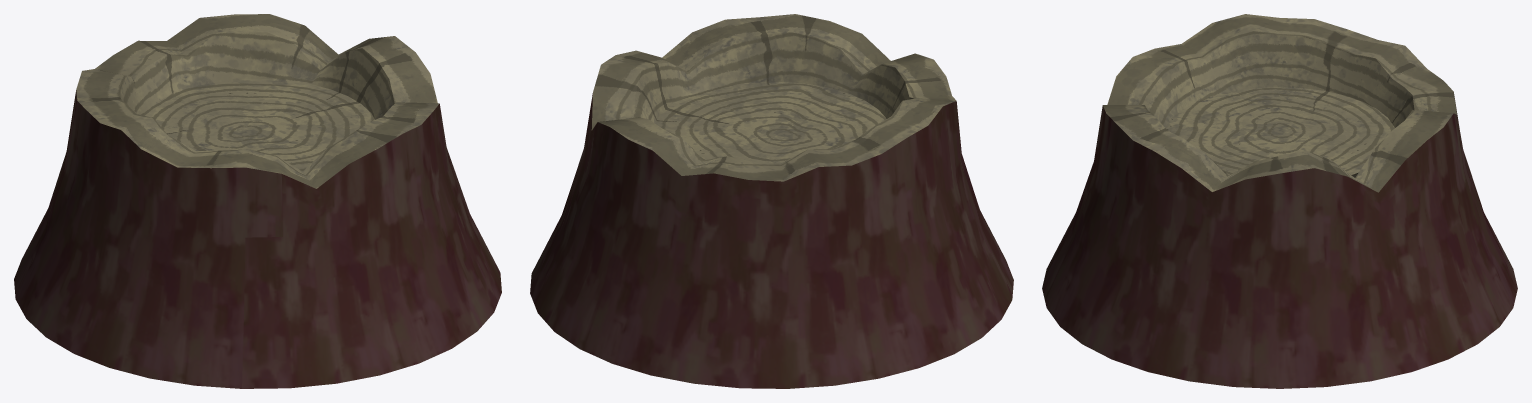
Rendered from PRM Tree Stump.fbx.
The picture shows the model from 3 angles, left to right: view 1: azimuth 30°, elevation 25°; view 2: azimuth 150°, elevation 25°; view 3: azimuth 270°, elevation 25°; orthographic projection. The views are drawn at different scales.
Parts seen in each view (by area): view 1: Stump_LOD0; view 2: Stump_LOD0; view 3: Stump_LOD0.
Boxes of the visible parts, x1,y1,x2,y2 form: Stump_LOD0: [14, 14, 501, 388]; Stump_LOD0: [530, 14, 1013, 388]; Stump_LOD0: [1042, 14, 1517, 388].
Size of what is drawn, in the model's own units: 291 by 136 by 291.
